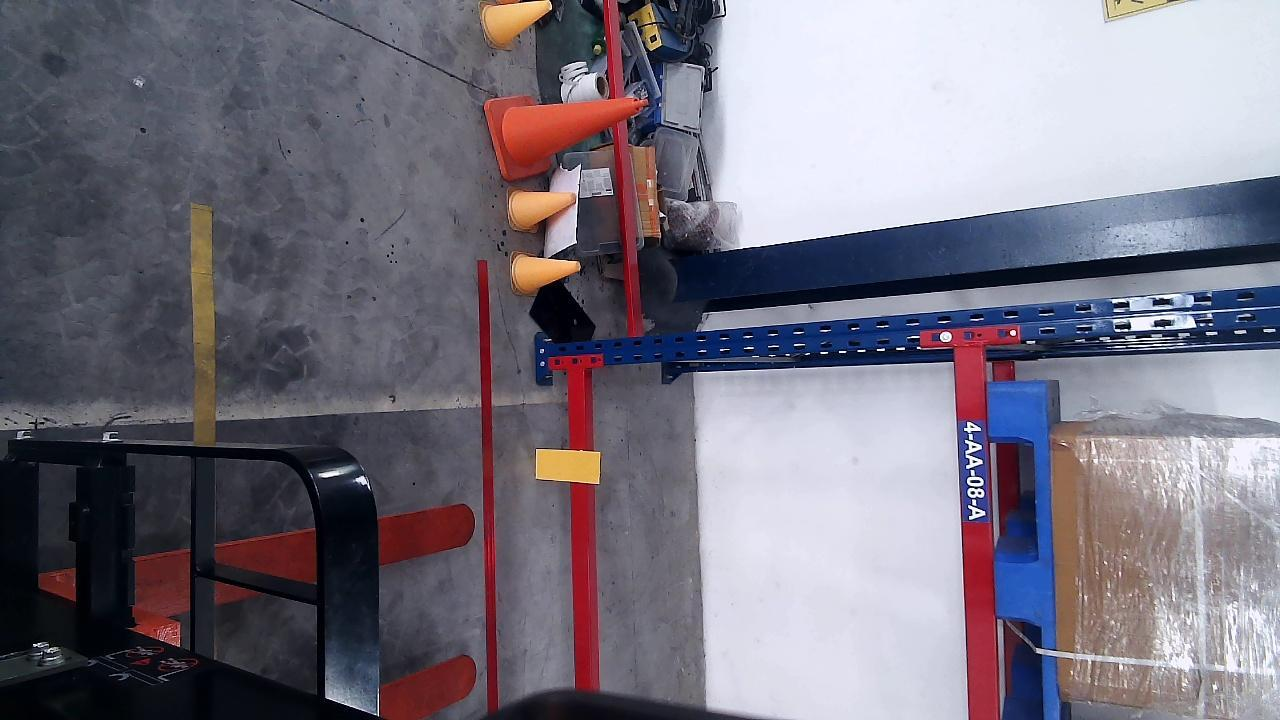h_rack: (953, 344, 1002, 719), (566, 366, 597, 688)
orange_strip: (538, 449, 603, 484)
red_line: (477, 260, 500, 711)
small_pallet: (988, 384, 1059, 716)
yellow_line: (191, 203, 217, 443)
